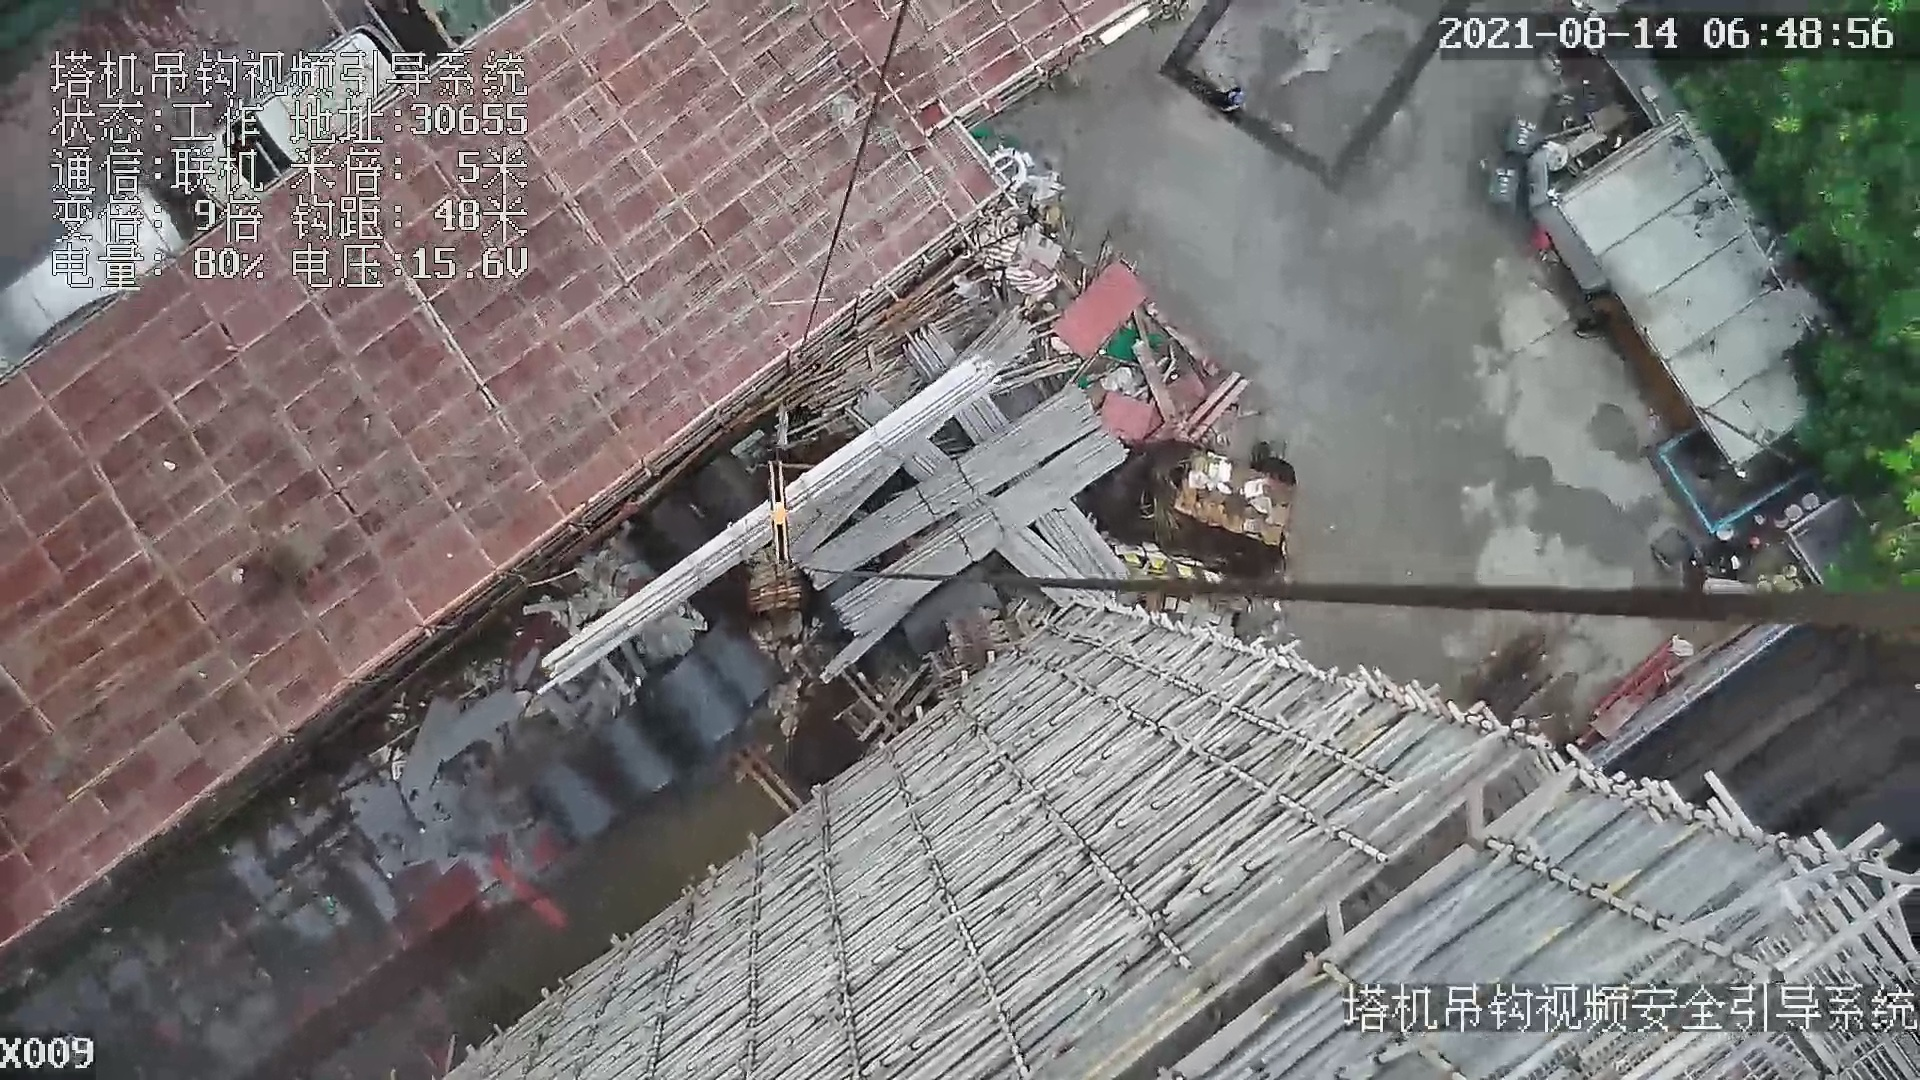hook: (762, 459, 800, 573)
hopper: (1649, 420, 1830, 534)
person: (1219, 85, 1248, 126)
